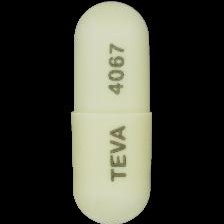0093-4067: (0, 0, 224, 224)
